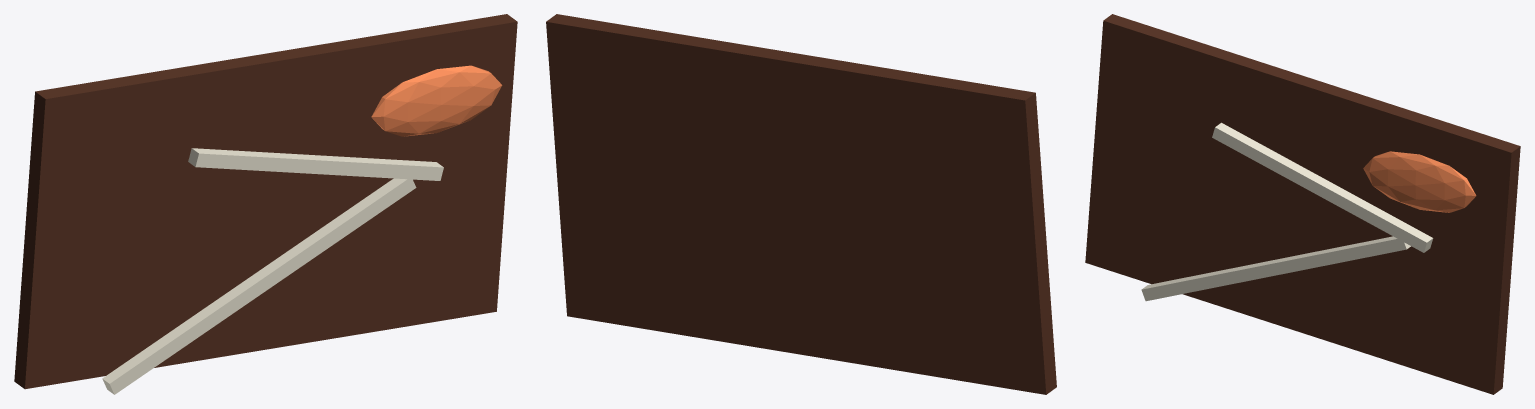
Rendered from 05_weathering_wear_overlay_5.glb.
The picture shows the model from 3 angles, left to right: view 1: azimuth 30°, elevation 25°; view 2: azimuth 150°, elevation 25°; view 3: azimuth 330°, elevation 25°; orthographic projection. The views are drawn at different scales.
Parts seen in each view (by area): view 1: wear_plate, scratch_a, rust_or_moss_spot, scratch_b; view 2: wear_plate; view 3: wear_plate, rust_or_moss_spot, scratch_b, scratch_a.
Part boxes in pixels (x1,y1,x2,y2): wear_plate: (14,14,517,389); scratch_a: (102,178,416,394); rust_or_moss_spot: (371,65,502,136); scratch_b: (188,148,443,180); wear_plate: (546,14,1056,394); wear_plate: (1085,14,1520,394); rust_or_moss_spot: (1363,151,1476,212); scratch_b: (1212,122,1433,252); scratch_a: (1141,236,1410,301).
Size of the model in its own units: 1.35 by 0.8466 by 0.134.
